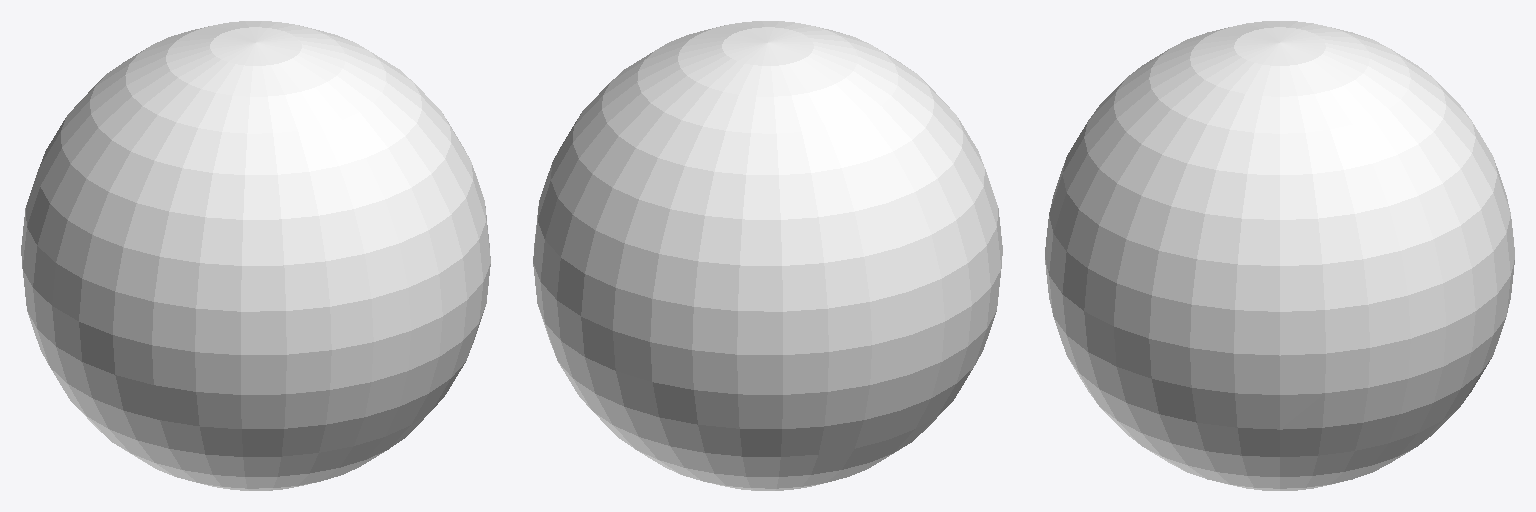
3 views of the same model, side by side, from view 1: azimuth 30°, elevation 25°; view 2: azimuth 150°, elevation 25°; view 3: azimuth 270°, elevation 25° (orthographic).
Parts seen in each view (by area): view 1: 球; view 2: 球; view 3: 球.
Part boxes in pixels (x1,y1,x2,y2): 球: (21, 21, 490, 490); 球: (533, 21, 1002, 490); 球: (1045, 21, 1514, 490).
Size of the model in its own units: 0.6 by 0.6 by 0.6.
Materials: 1 (1 with a texture image).